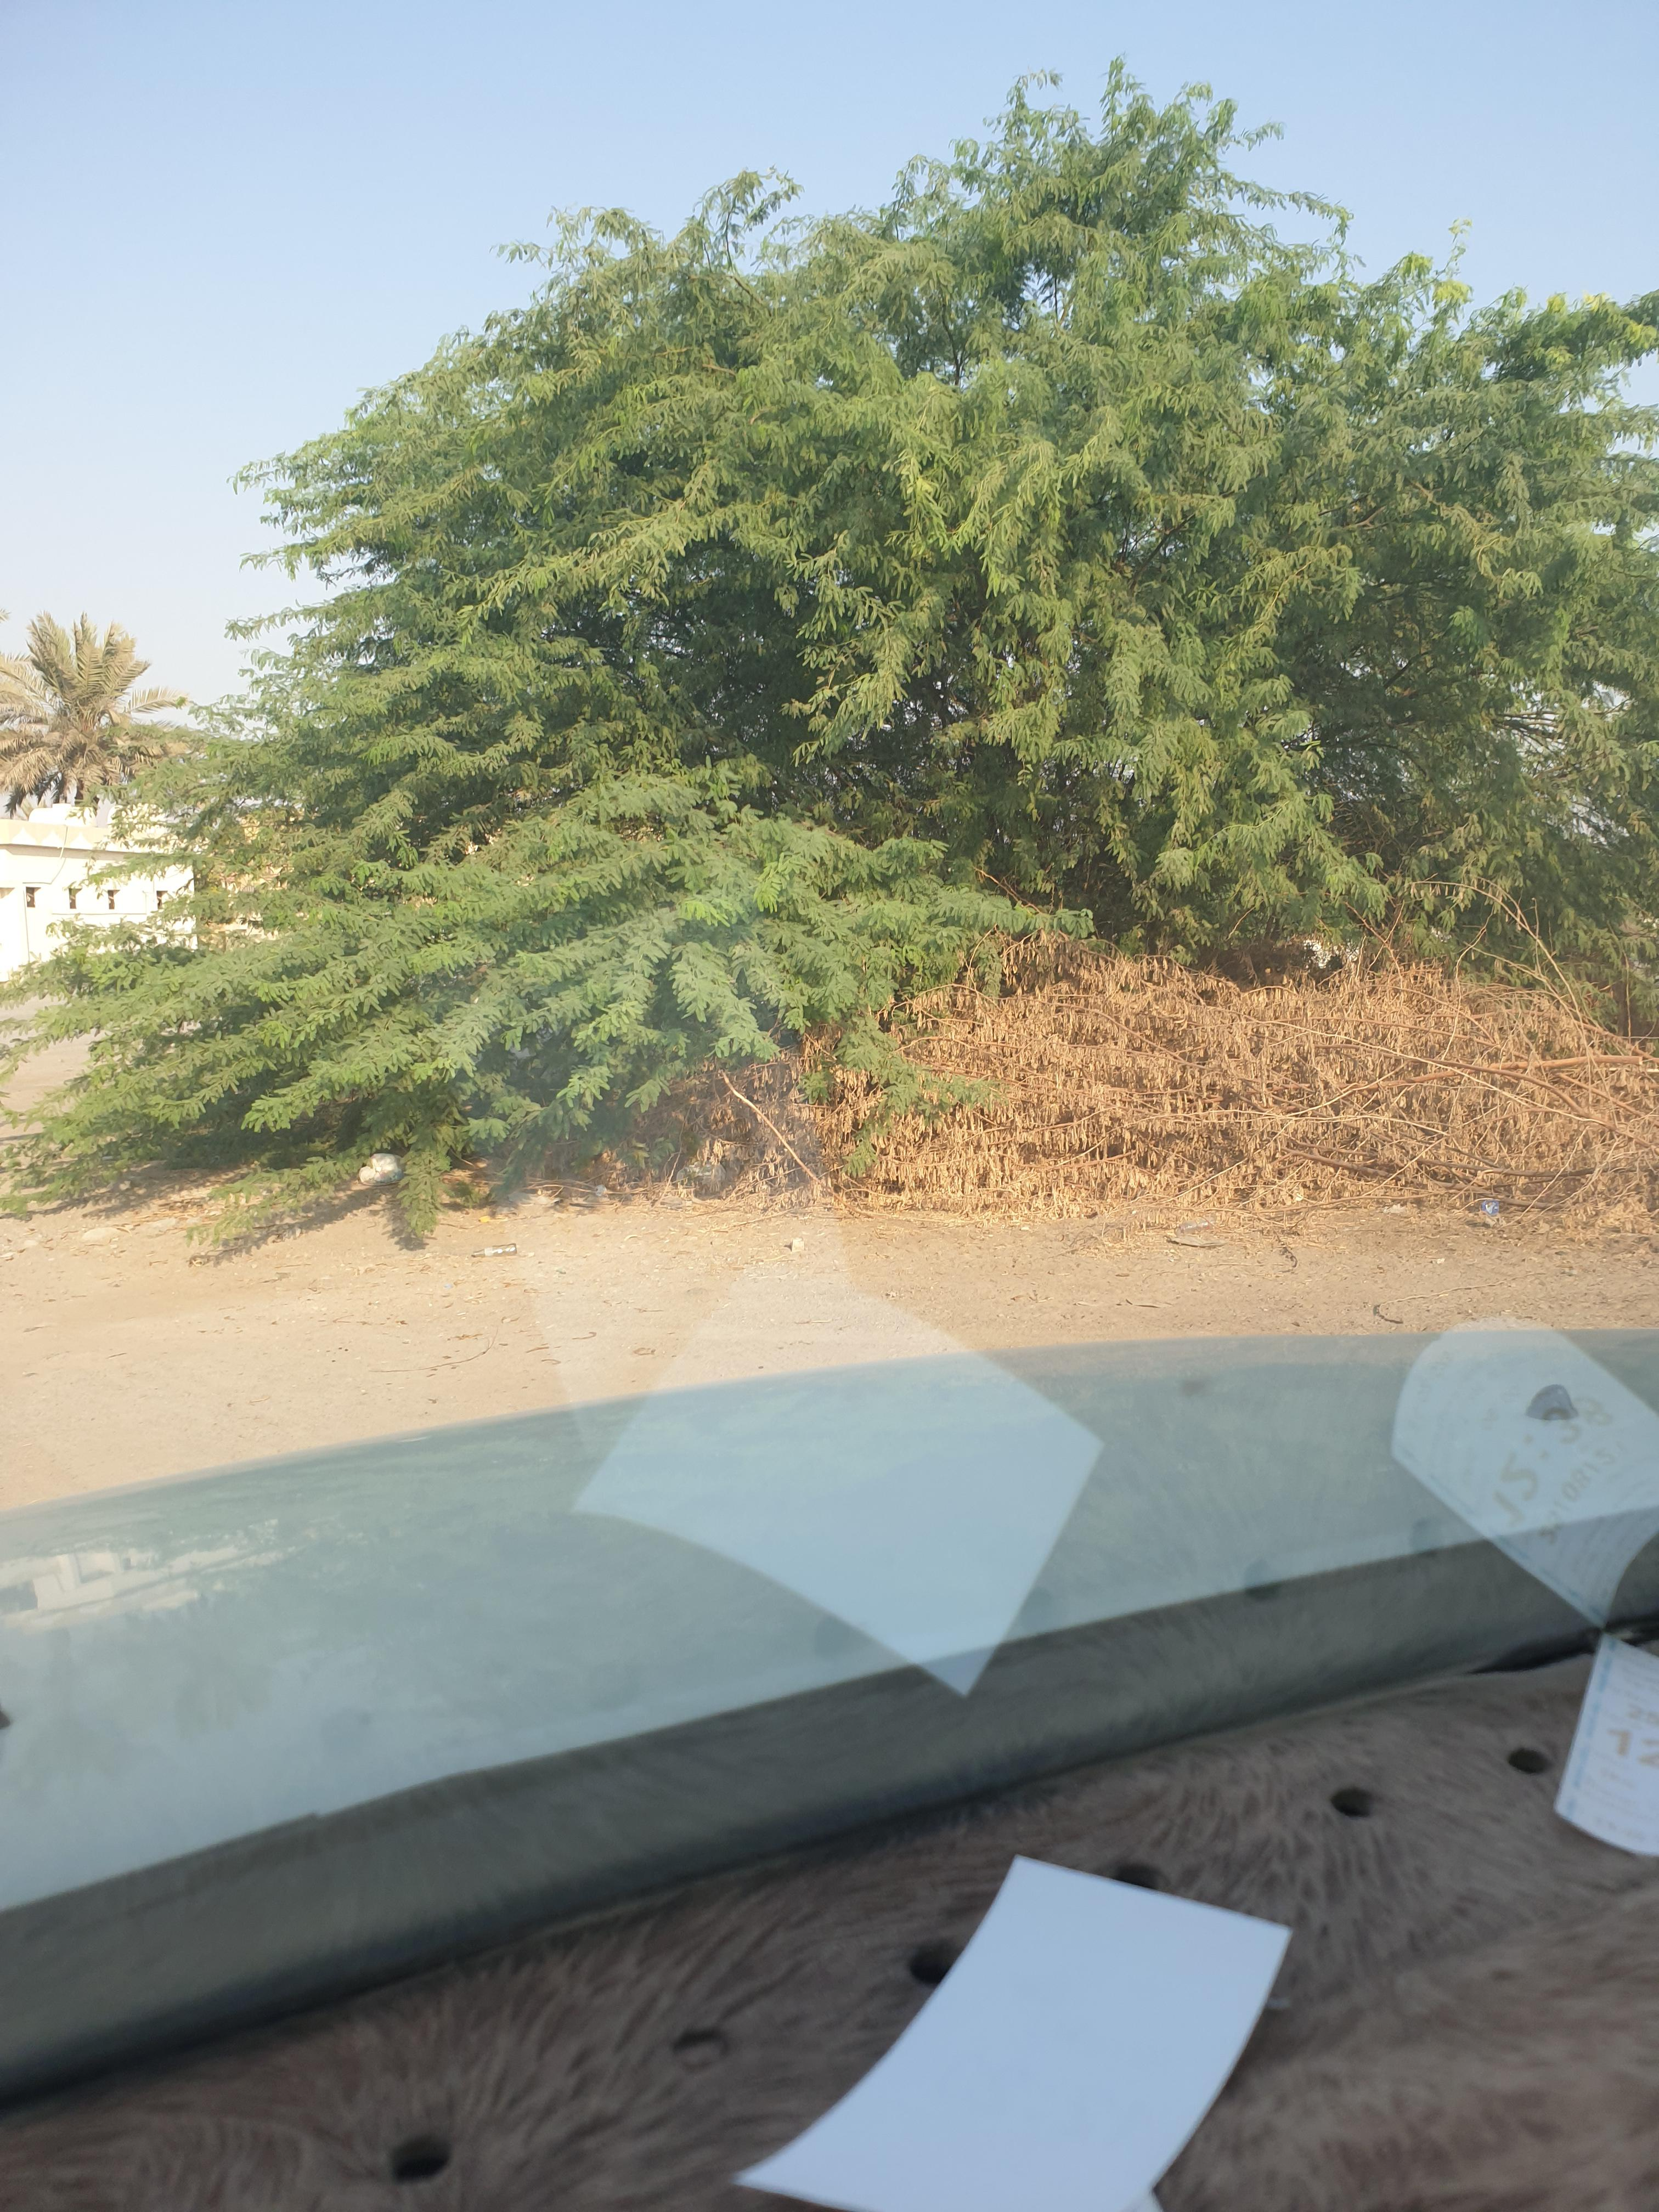fallen_trees: (1103, 1042, 1586, 1268), (826, 1113, 1441, 1280)
